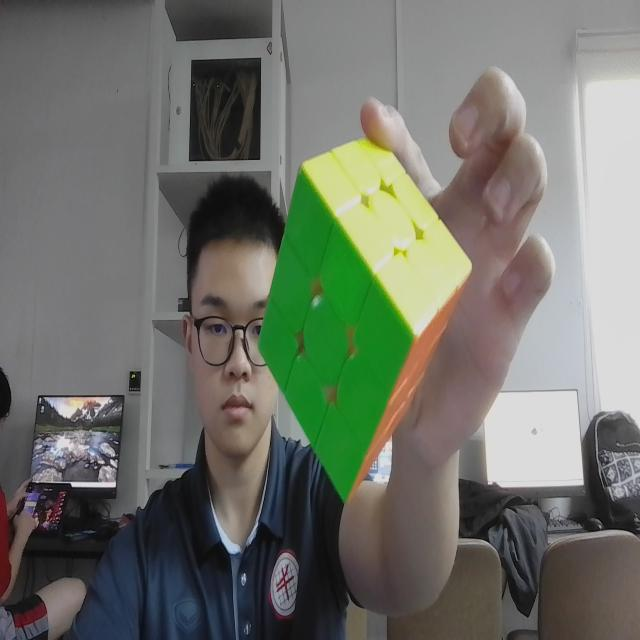rubik: (248, 116, 481, 518)
